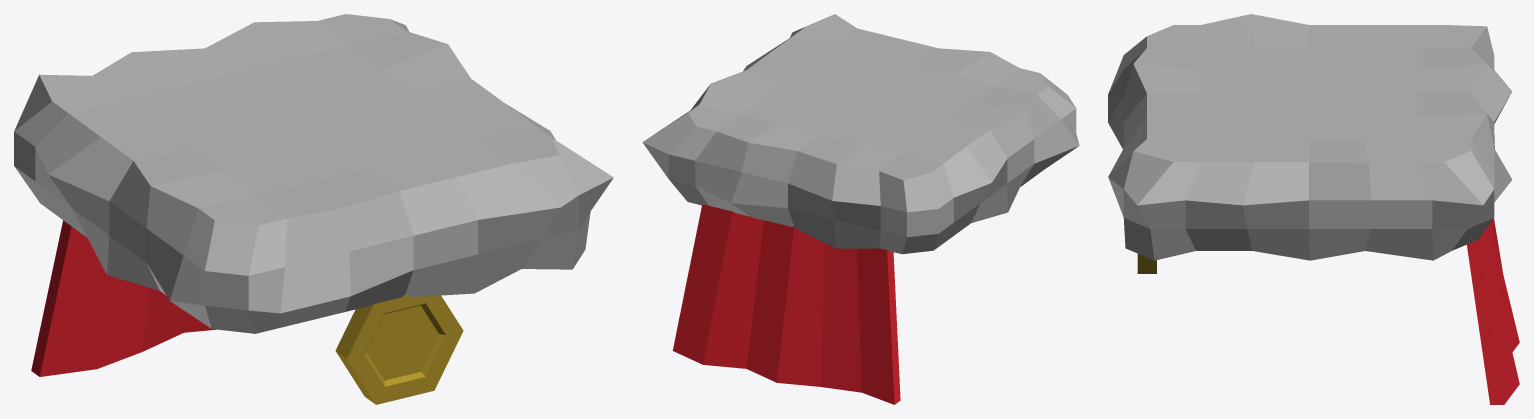
Rendered from playerCapeRed.fbx.
3 renders of one model, left to right at view 1: azimuth 30°, elevation 25°; view 2: azimuth 150°, elevation 25°; view 3: azimuth 270°, elevation 25°, orthographic. The views are drawn at different scales.
Parts seen in each view (by area): view 1: Player Cape - Red; view 2: Player Cape - Red; view 3: Player Cape - Red.
Part boxes in pixels (bbox=[...]): Player Cape - Red: bbox=[14, 14, 613, 404]; Player Cape - Red: bbox=[642, 14, 1079, 404]; Player Cape - Red: bbox=[1108, 14, 1519, 404].
Size of the model in its own units: 98.85 by 101 by 68.25.
